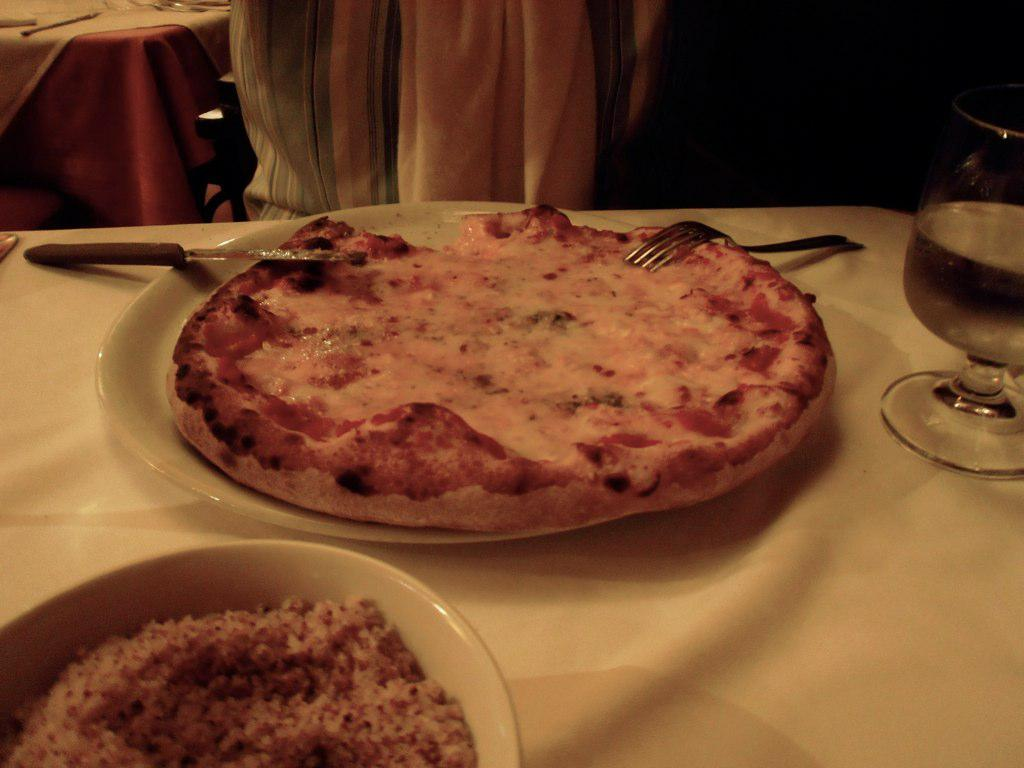Pizza: (149, 212, 828, 541)
